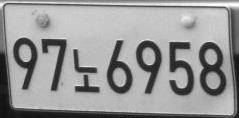5: (168, 41, 194, 96)
6: (105, 40, 133, 95)
7: (41, 38, 67, 92)
8: (197, 40, 227, 97)
9: (135, 39, 162, 94), (12, 36, 37, 90)
노: (71, 49, 101, 93)
